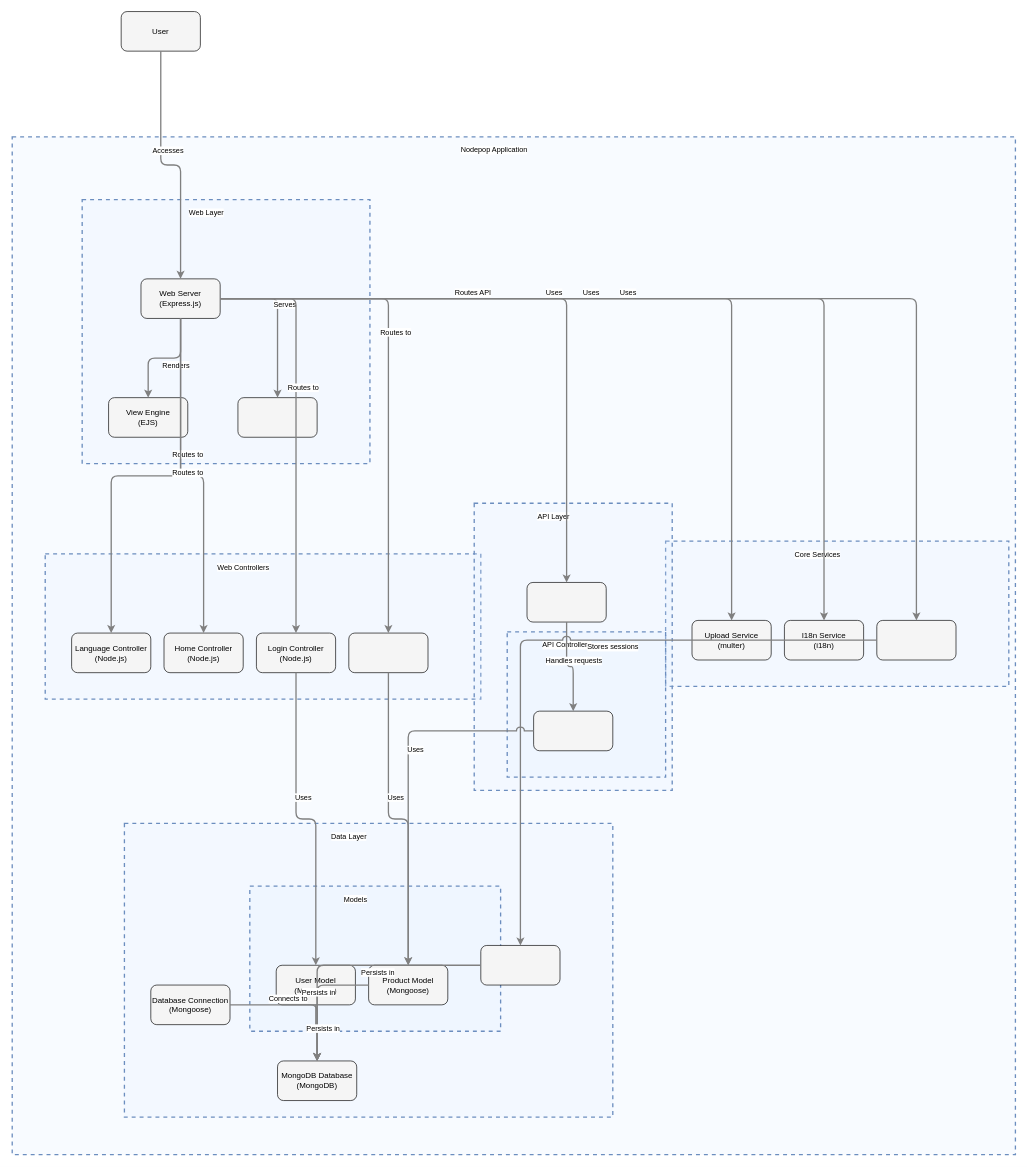
This 1027x1167 diagram has some shape labels left out. Each missing label, with the box of its shape:
API Router (Express.js): (526, 582, 606, 622)
Product API Controller (Node.js): (533, 710, 613, 751)
Product Controller (Node.js): (348, 632, 428, 673)
Session Manager (express-session): (876, 620, 956, 660)
Session Store (connect-mongo): (480, 945, 560, 985)
Static Files Server (Express Static): (237, 397, 317, 437)
